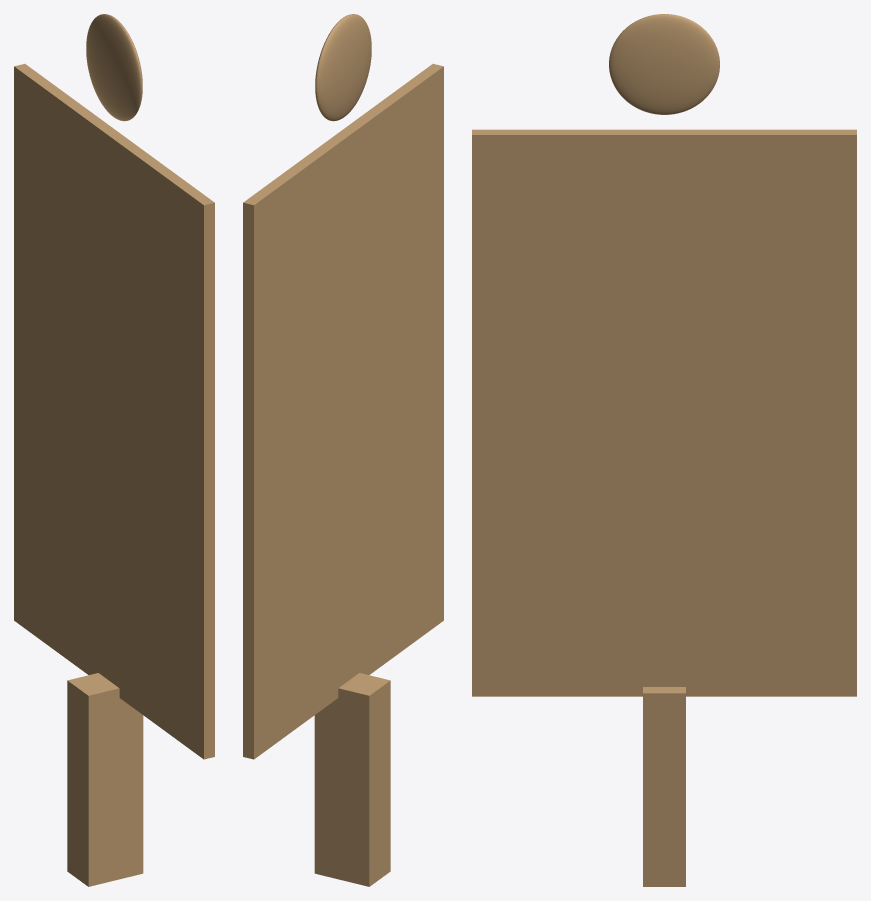
The model's file is ato2_recorte_hall.glb.
The picture shows the model from 3 angles, left to right: view 1: azimuth 30°, elevation 25°; view 2: azimuth 150°, elevation 25°; view 3: azimuth 270°, elevation 25°; orthographic projection.
Parts seen in each view (by area): view 1: Malha_0; view 2: Malha_0; view 3: Malha_0.
Boxes of the visible parts, x1,y1,x2,y2 form: Malha_0: (14, 14, 214, 886); Malha_0: (243, 14, 443, 886); Malha_0: (472, 14, 856, 886).
Bounding box in the file's own units: 0.15 × 2.23 × 0.9.
